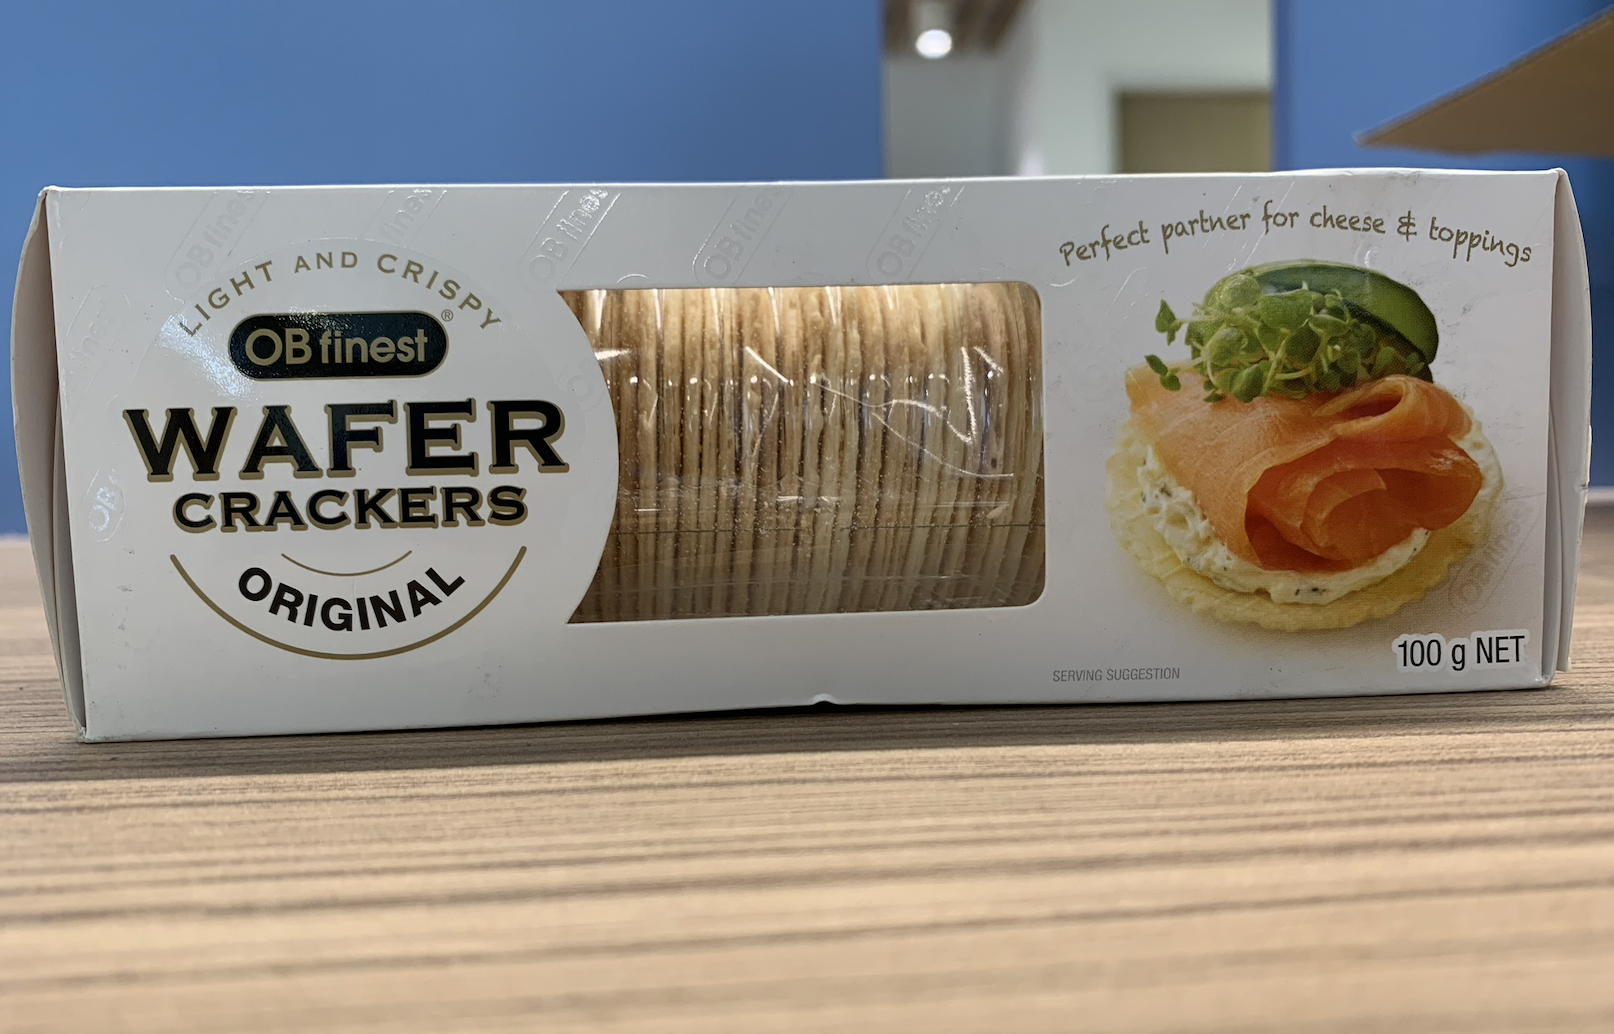crackers_150g: (72, 195, 1565, 687)
